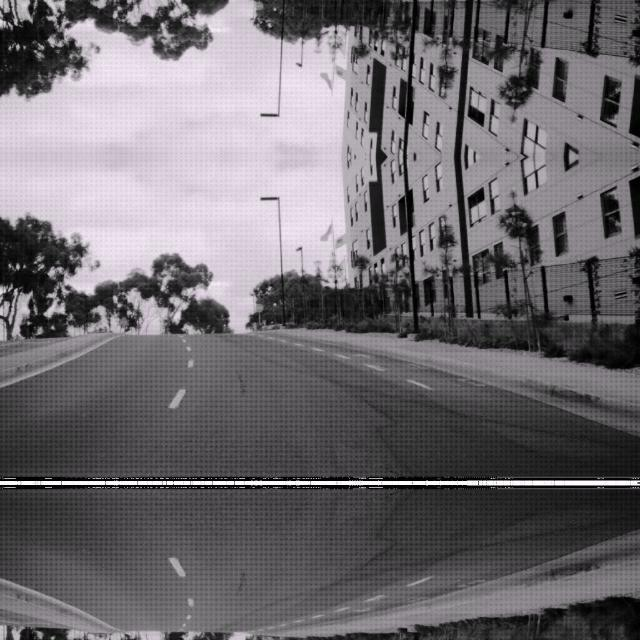stop: (254, 301, 262, 311), (254, 1, 262, 11), (119, 316, 128, 324)
